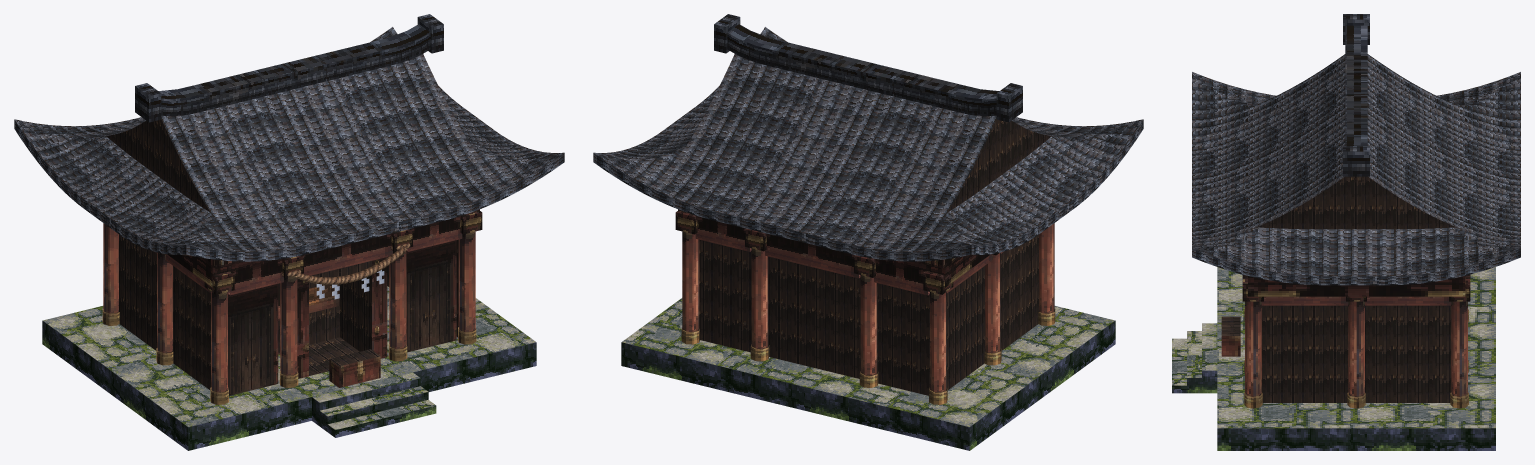
Rendered from ShrineHall.glb.
3 renders of one model, left to right at view 1: azimuth 30°, elevation 25°; view 2: azimuth 150°, elevation 25°; view 3: azimuth 270°, elevation 25°, orthographic. The views are drawn at different scales.
Visible parts, largest first — view 1: GEO_Shrine_Roof_Main, GEO_Shrine_Platform, GEO_Shrine_Walls, GEO_Shrine_Columns, GEO_Shrine_Roof_Ridge, GEO_Shrine_Beams, GEO_Shrine_Stairs, GEO_Shrine_Entrance, GEO_Shrine_OfferingBox, GEO_Shrine_Shimenawa; view 2: GEO_Shrine_Roof_Main, GEO_Shrine_Walls, GEO_Shrine_Platform, GEO_Shrine_Columns, GEO_Shrine_Roof_Ridge, GEO_Shrine_Beams; view 3: GEO_Shrine_Roof_Main, GEO_Shrine_Platform, GEO_Shrine_Walls, GEO_Shrine_Columns, GEO_Shrine_Beams, GEO_Shrine_Roof_Ridge, GEO_Shrine_Stairs, GEO_Shrine_OfferingBox.
Boxes of the visible parts, x1,y1,x2,y2 form: GEO_Shrine_Roof_Main: [14, 27, 564, 261]; GEO_Shrine_Platform: [42, 286, 536, 450]; GEO_Shrine_Walls: [119, 234, 459, 395]; GEO_Shrine_Columns: [102, 210, 482, 404]; GEO_Shrine_Roof_Ridge: [135, 14, 443, 122]; GEO_Shrine_Beams: [154, 209, 479, 295]; GEO_Shrine_Stairs: [312, 372, 436, 437]; GEO_Shrine_Entrance: [278, 275, 371, 375]; GEO_Shrine_OfferingBox: [329, 349, 380, 387]; GEO_Shrine_Shimenawa: [281, 243, 410, 284]; GEO_Shrine_Roof_Main: [593, 27, 1143, 261]; GEO_Shrine_Walls: [698, 234, 1038, 395]; GEO_Shrine_Platform: [621, 298, 1115, 450]; GEO_Shrine_Columns: [675, 210, 1055, 404]; GEO_Shrine_Roof_Ridge: [714, 14, 1022, 122]; GEO_Shrine_Beams: [678, 209, 1003, 295]; GEO_Shrine_Roof_Main: [1192, 54, 1520, 285]; GEO_Shrine_Platform: [1217, 267, 1495, 450]; GEO_Shrine_Walls: [1259, 305, 1453, 402]; GEO_Shrine_Columns: [1242, 276, 1470, 408]; GEO_Shrine_Beams: [1248, 276, 1465, 305]; GEO_Shrine_Roof_Ridge: [1343, 14, 1369, 176]; GEO_Shrine_Stairs: [1172, 323, 1217, 393]; GEO_Shrine_OfferingBox: [1221, 316, 1240, 356].
Size of the model in its own units: 7.5 by 5.68 by 6.26.
7 materials, 7 textured.
